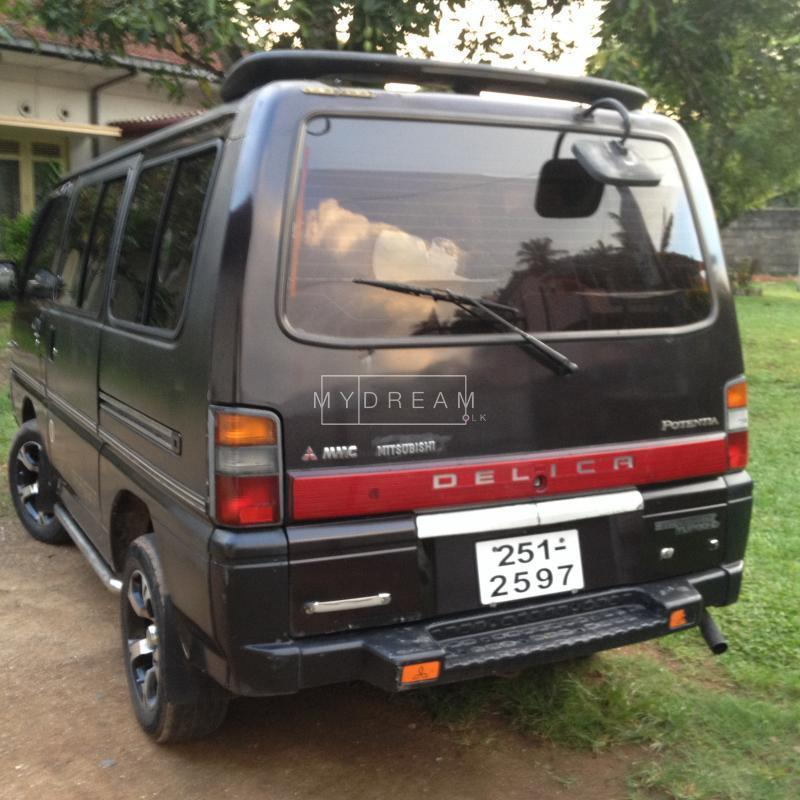license-plate: (469, 526, 585, 600)
